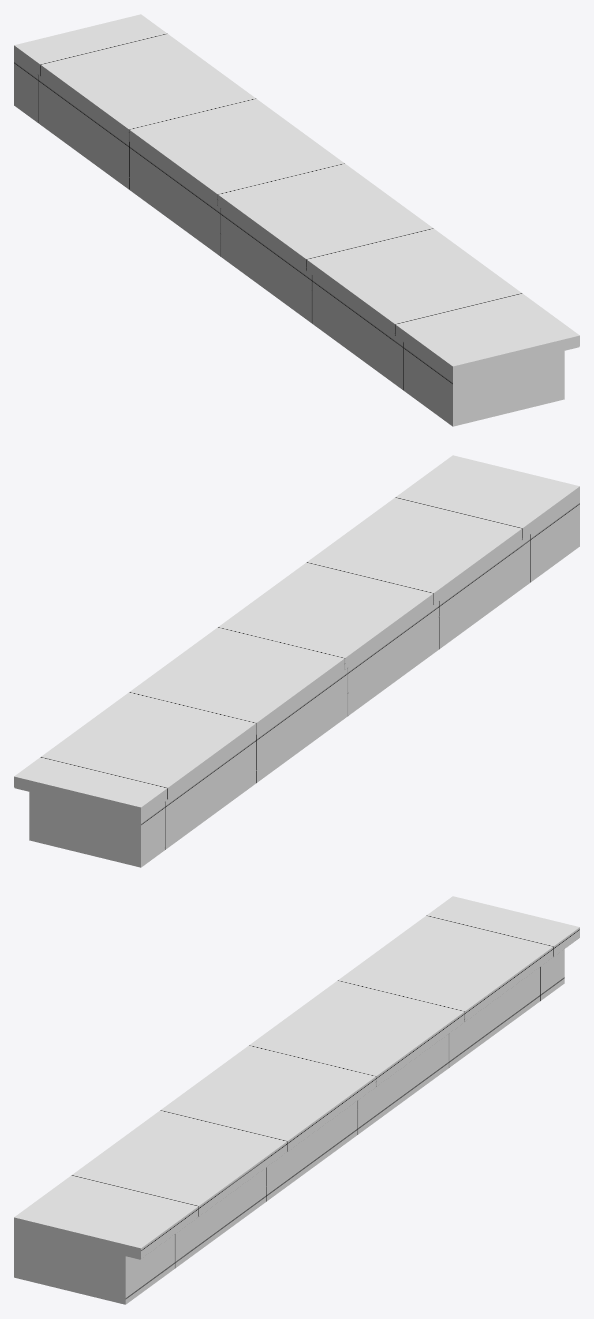
Rendered from FloatingAptOutSideSupport_mesh.fbx.
3 renders of one model, top to bottom at view 1: azimuth 30°, elevation 25°; view 2: azimuth 150°, elevation 25°; view 3: azimuth 330°, elevation 25°, orthographic.
Visible parts, largest first — view 1: FloatingAptOutSideSupport_mesh; view 2: FloatingAptOutSideSupport_mesh; view 3: FloatingAptOutSideSupport_mesh.
Boxes of the visible parts, x1=… form: FloatingAptOutSideSupport_mesh: x1=14, y1=14, x2=579, y2=426; FloatingAptOutSideSupport_mesh: x1=14, y1=455, x2=579, y2=867; FloatingAptOutSideSupport_mesh: x1=14, y1=896, x2=579, y2=1304.
Bounding box in the file's own units: 167 × 75.49 × 998.
